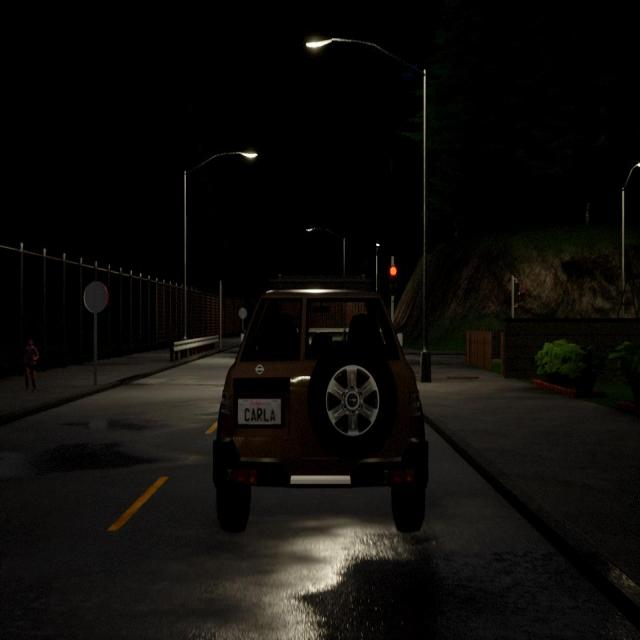Pedestrian: (24, 339, 38, 391)
Traffic_Signs: (81, 278, 111, 316), (237, 307, 247, 320)
Vehicle: (213, 279, 428, 532)
traffic_light: (389, 263, 398, 293), (513, 280, 521, 307)
